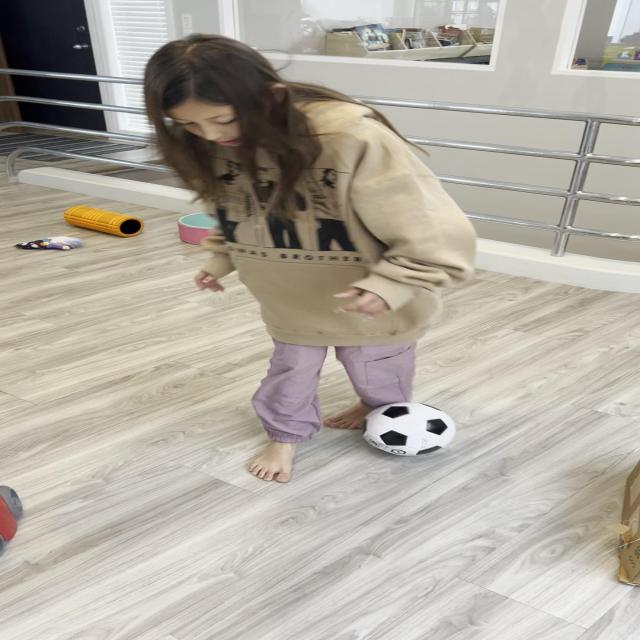Soccer Ball: (361, 402, 457, 456)
